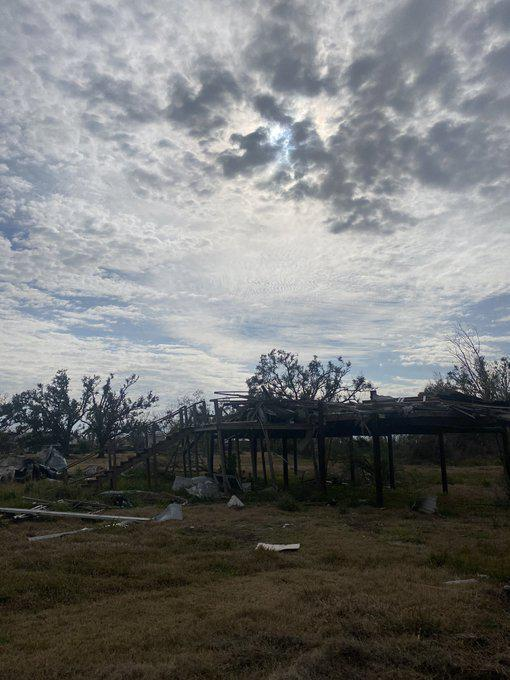destroyed: (0, 364, 510, 584)
